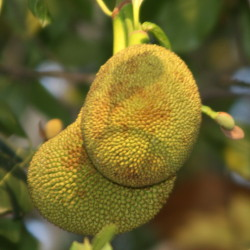jackfruit: (18, 93, 187, 242), (79, 43, 203, 187)
